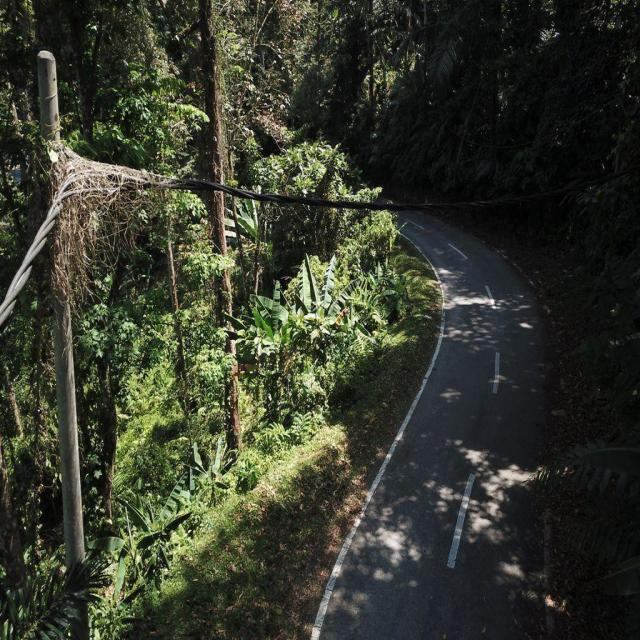light_pole: (28, 132, 174, 326)
